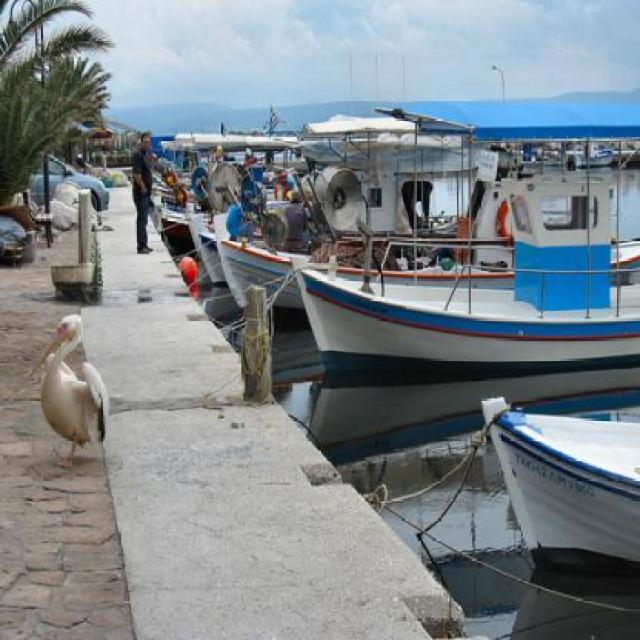ship: (298, 84, 638, 370), (211, 129, 634, 314), (180, 126, 532, 286)
